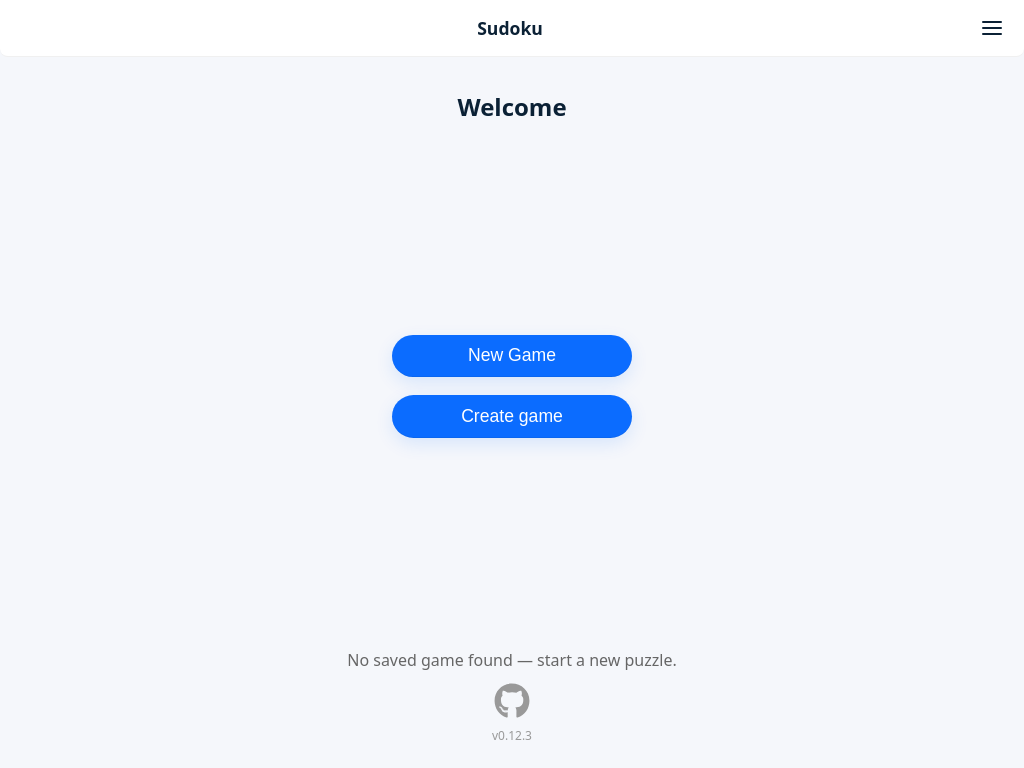
App › closes settings dialog when Close clicked
Click the button named "menu".
click(992, 28)  # box [972,8,1012,48]
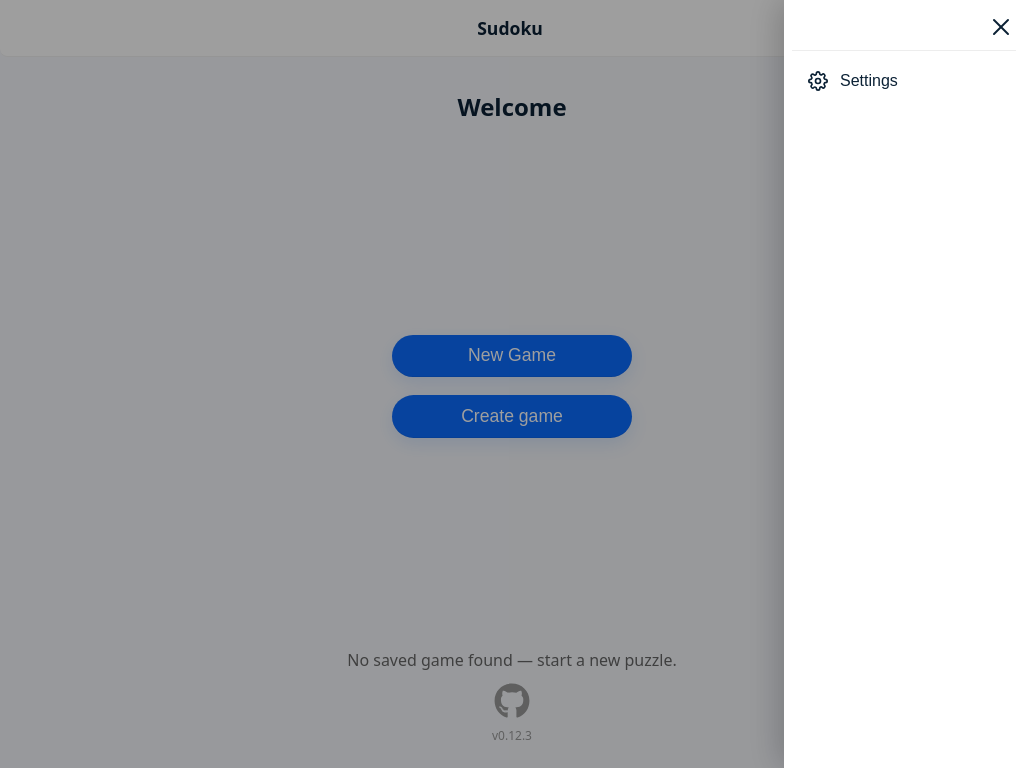
Click the menu item "Settings".
click(904, 81)  # box [792,59,1016,103]
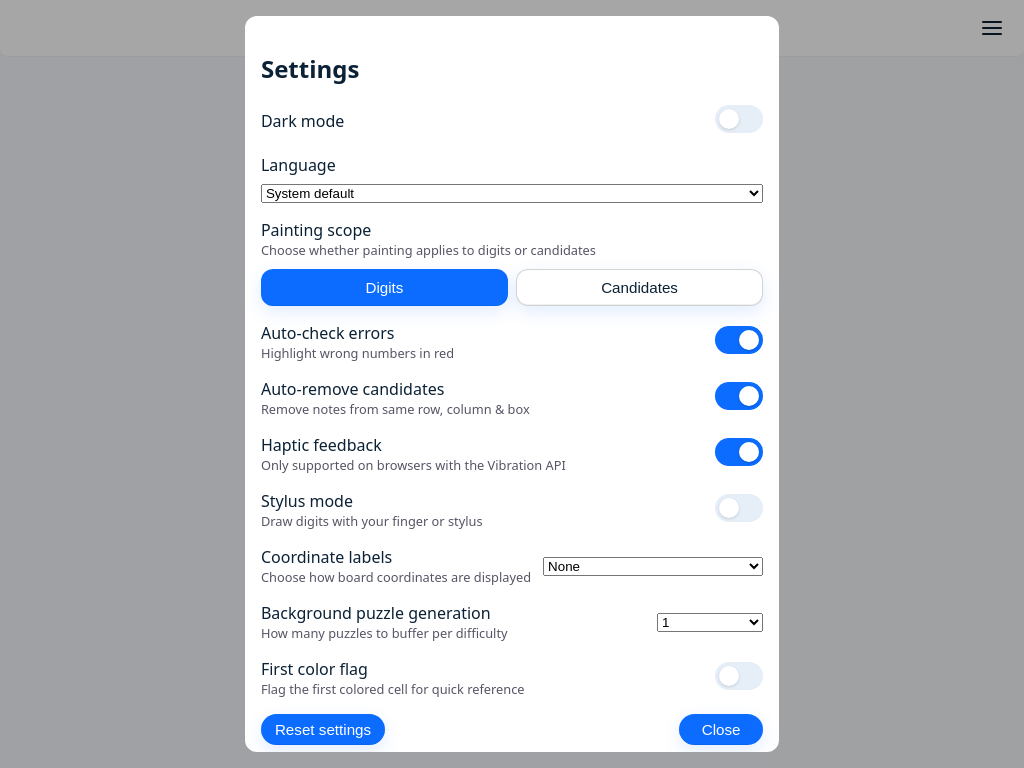
Click the button "Close".
click(721, 730)  # box [679,714,763,745]
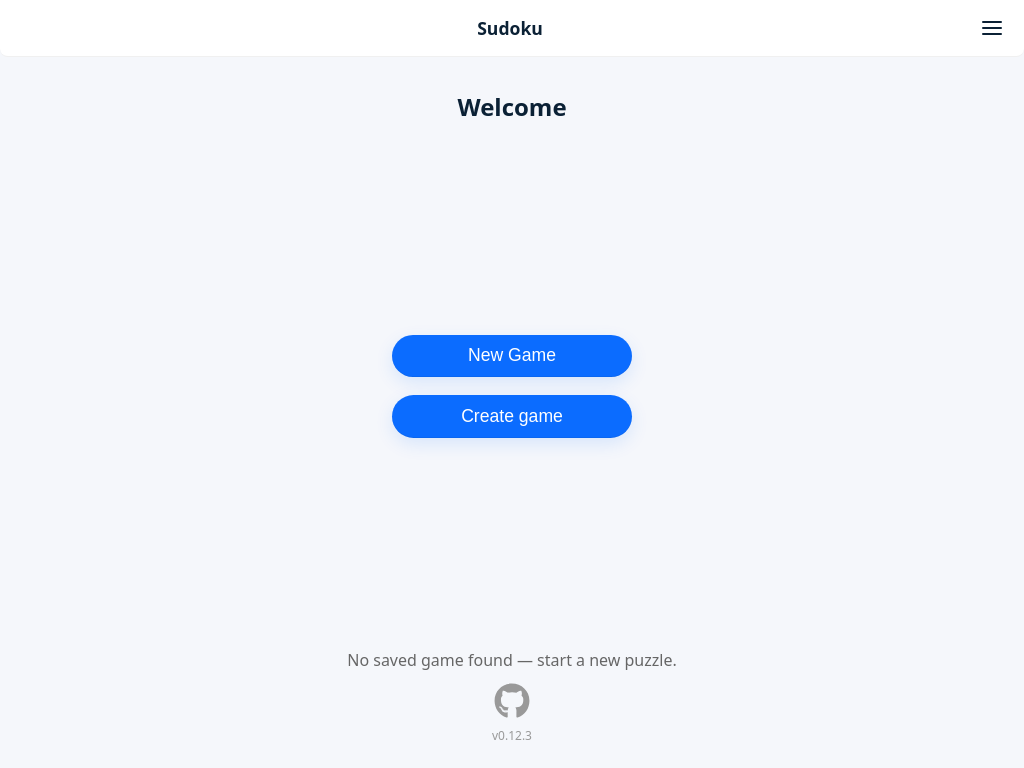
Check: the dialog is gone
